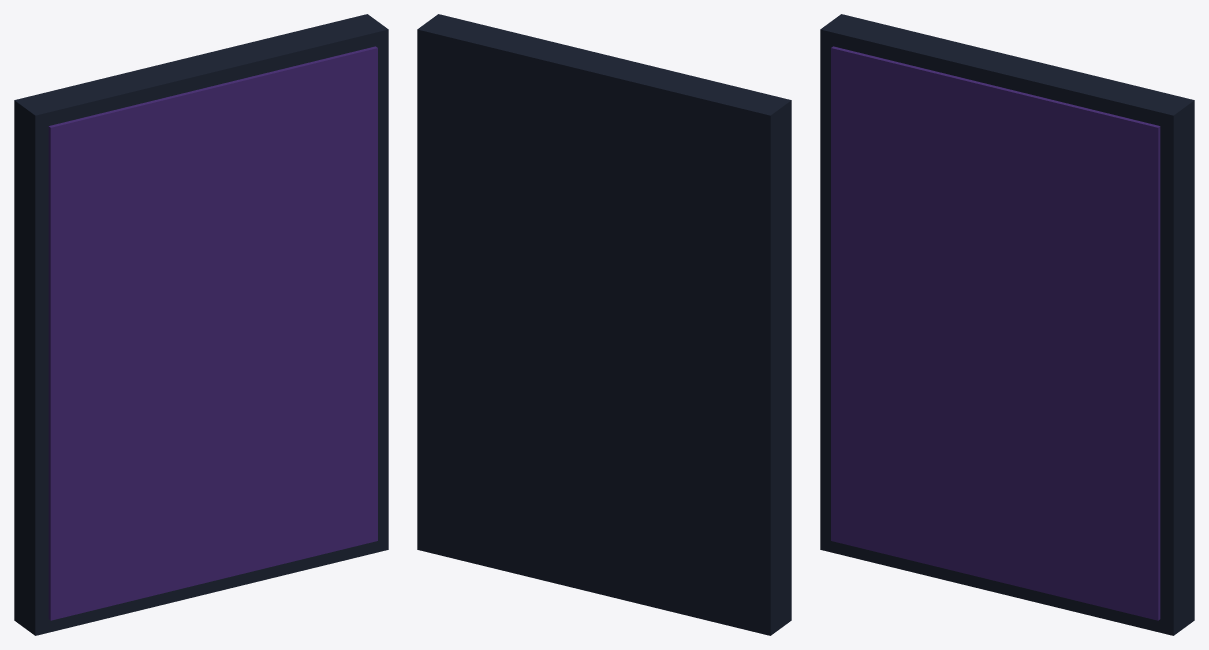
Rendered from dvd-4.glb.
3 views of the same model, side by side, from view 1: azimuth 30°, elevation 25°; view 2: azimuth 150°, elevation 25°; view 3: azimuth 330°, elevation 25° (orthographic).
Size of the model in its own units: 0.135 by 0.19 by 0.0155.
